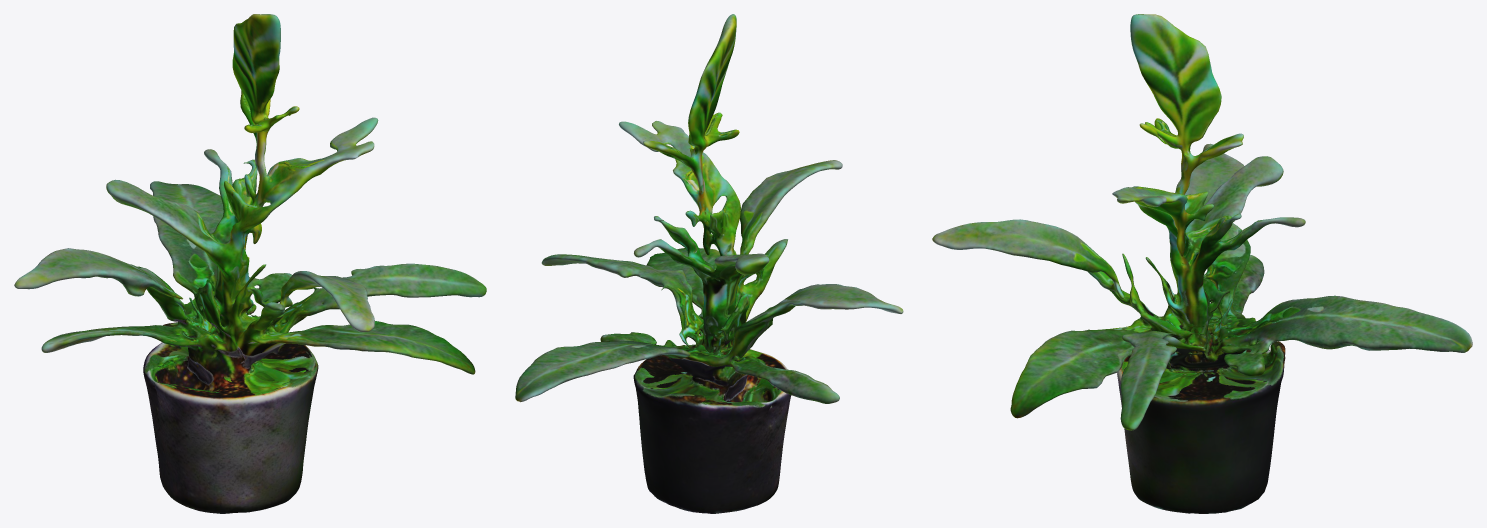
Rendered from 767f9d95a6c6_small_plant_min.fbx.
3 renders of one model, left to right at view 1: azimuth 30°, elevation 25°; view 2: azimuth 150°, elevation 25°; view 3: azimuth 270°, elevation 25°, orthographic. The views are drawn at different scales.
Visible parts, largest first — view 1: mesh; view 2: mesh; view 3: mesh.
Part boxes in pixels (left/top/right/bottom): mesh: left=14, top=14, right=486, bottom=513; mesh: left=515, top=14, right=903, bottom=513; mesh: left=932, top=14, right=1472, bottom=513.
Bounding box in the file's own units: 89.63 × 97.66 × 99.55.
